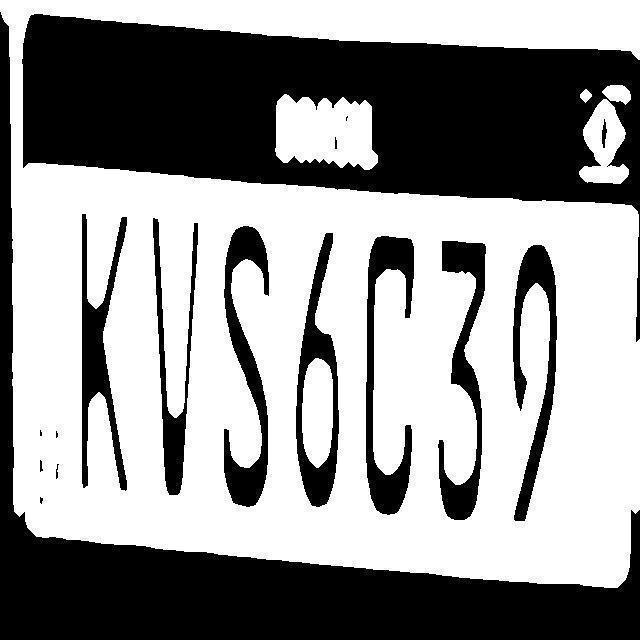3: (426, 220, 494, 536)
6: (283, 217, 353, 523)
9: (495, 229, 566, 541)
c: (358, 220, 424, 531)
k: (60, 196, 137, 504)
s: (208, 210, 280, 512)
v: (143, 202, 203, 516)
